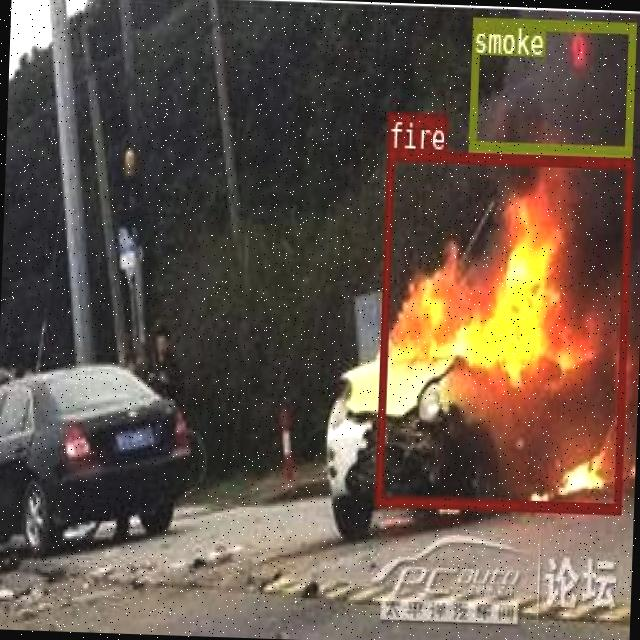fire: (374, 149, 632, 511)
smoke: (468, 15, 635, 154)
